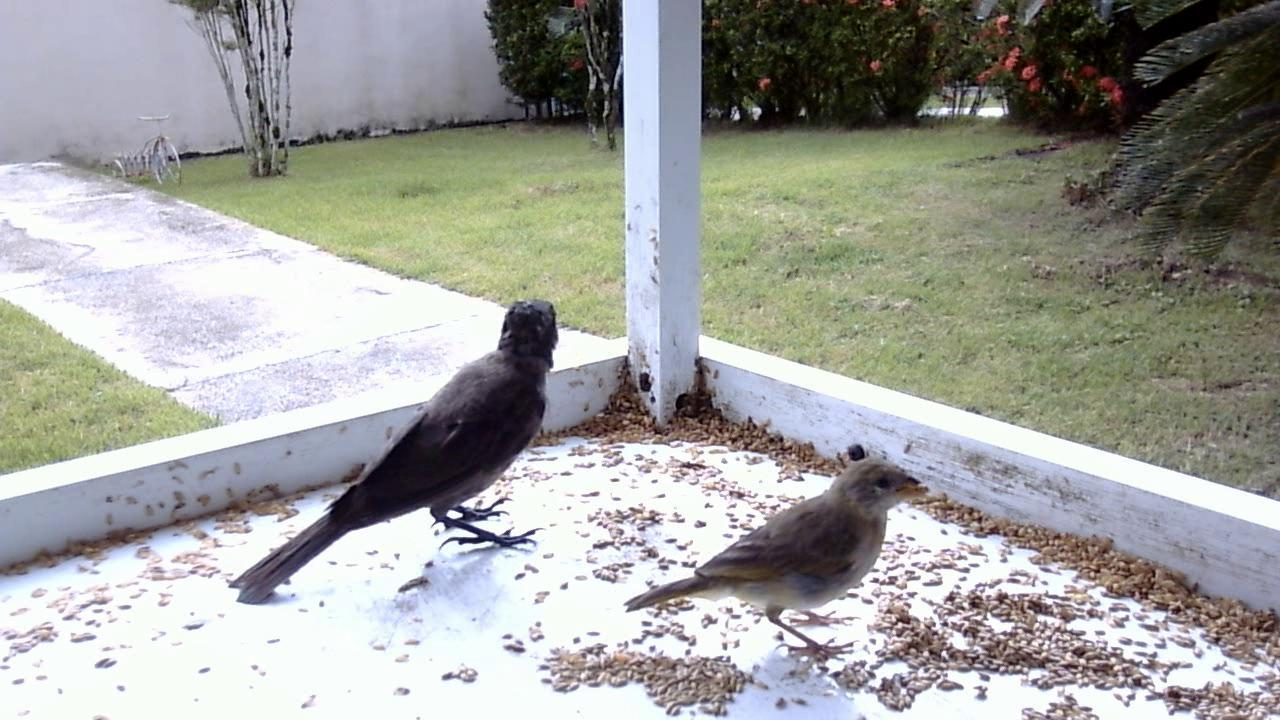canario_do_amazonas: (619, 444, 930, 671)
chupim: (211, 294, 572, 616)
